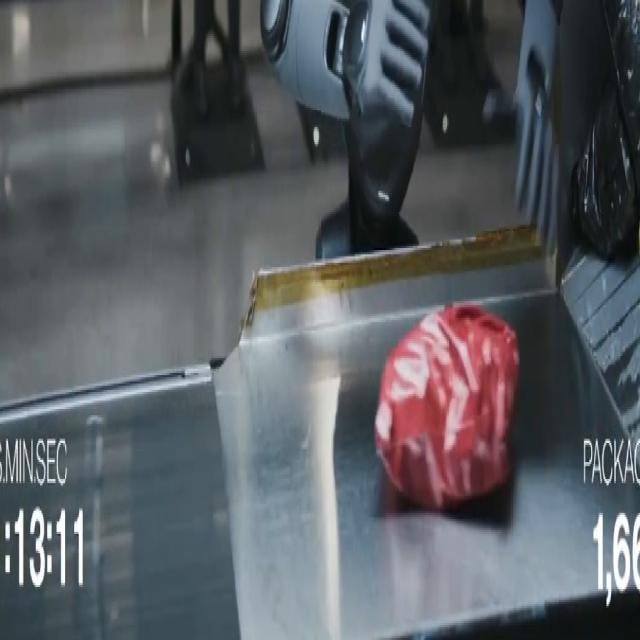package: (375, 306, 518, 510), (571, 0, 639, 258)
